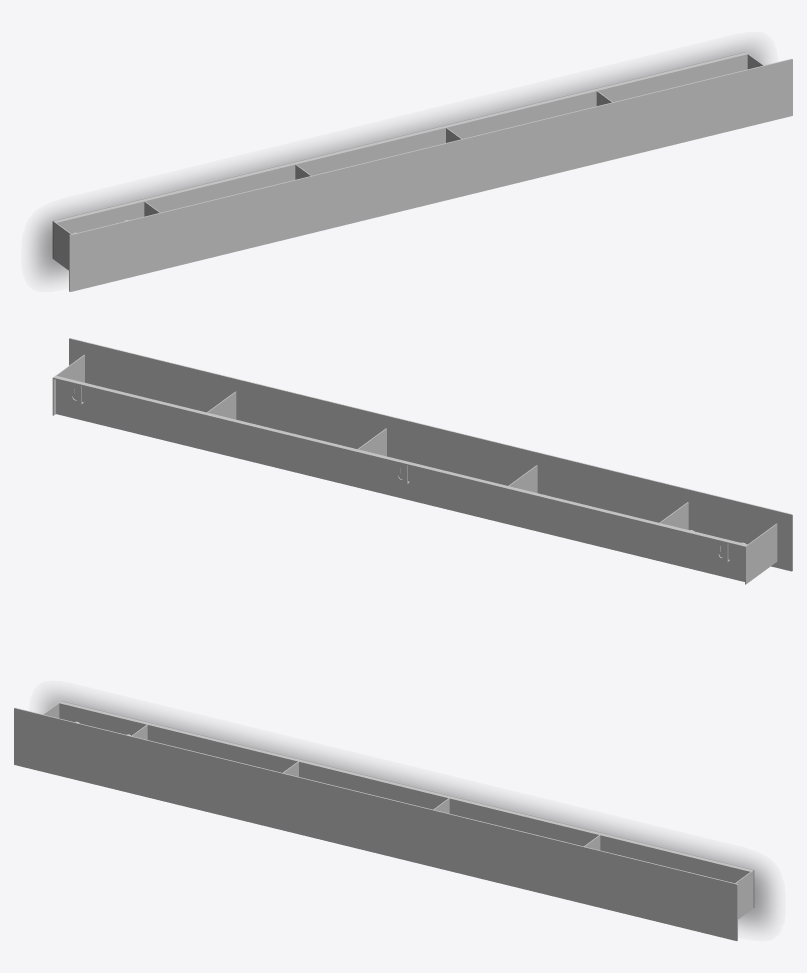
Rendered from skyline-patron.d6b47240da.ar.glb.
The picture shows the model from 3 angles, top to bottom: view 1: azimuth 30°, elevation 25°; view 2: azimuth 150°, elevation 25°; view 3: azimuth 330°, elevation 25°; orthographic projection.
Visible parts, largest first — view 1: NAUO1, object 2; view 2: NAUO1; view 3: NAUO1, object 2.
Part boxes in pixels (left/top/right/bottom): NAUO1: left=52, top=52, right=792, bottom=291; object 2: left=33, top=45, right=765, bottom=278; NAUO1: left=52, top=338, right=792, bottom=584; NAUO1: left=14, top=701, right=754, bottom=940; object 2: left=41, top=694, right=773, bottom=927.
Bounding box in the file's own units: 1.28 × 0.17 × 0.092.
Materials: 2 (1 with a texture image).
